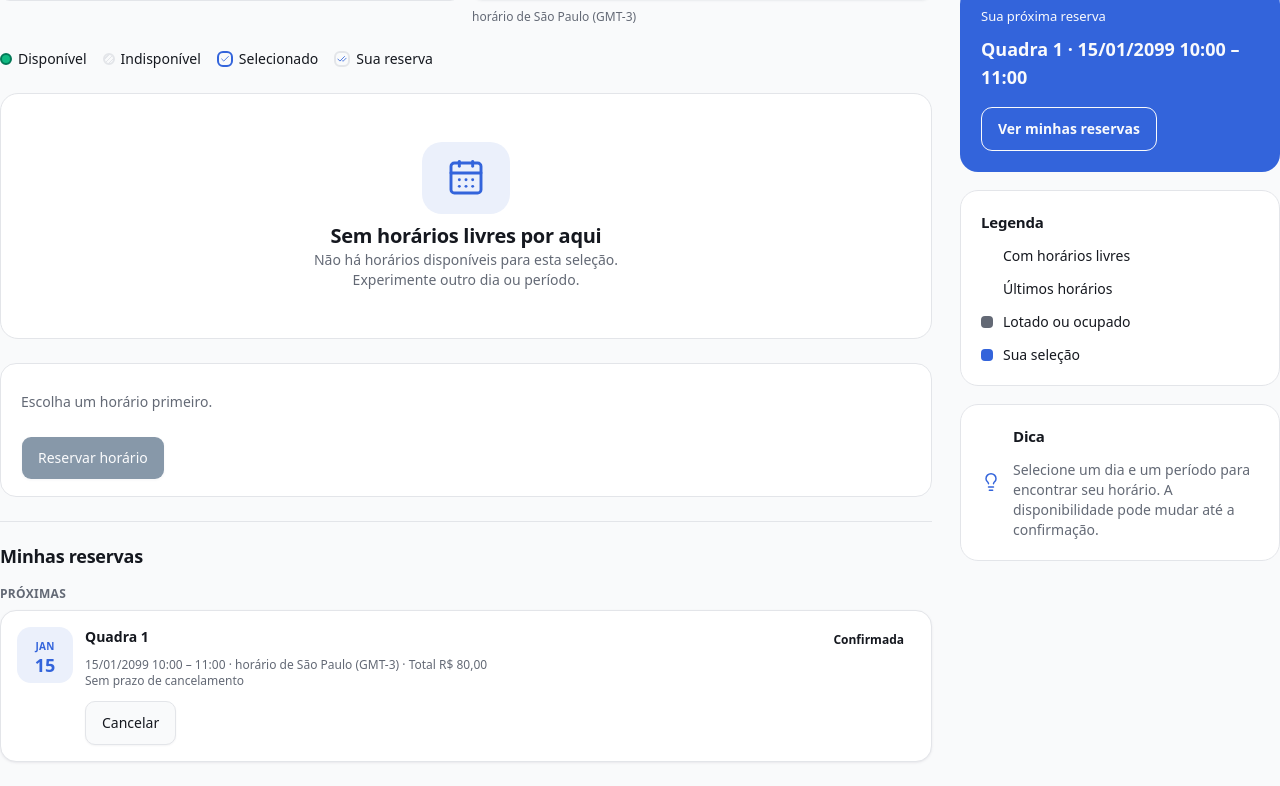
Test: TenantPortalAgendaPage B2C self-cancel › explains that an unpaid reservation has no payment to refund
(page scrolled)
Check: the heading "Minhas reservas" is shown, box [0,544,143,568]
Check: the list item "Quadra 1" shows "R$ 80,00", box [409,656,487,673]
What coordinates should you click on to do the following:
click the button "Cancelar"
I would click on:
 (131, 723)
Its box is [85,701,176,745].
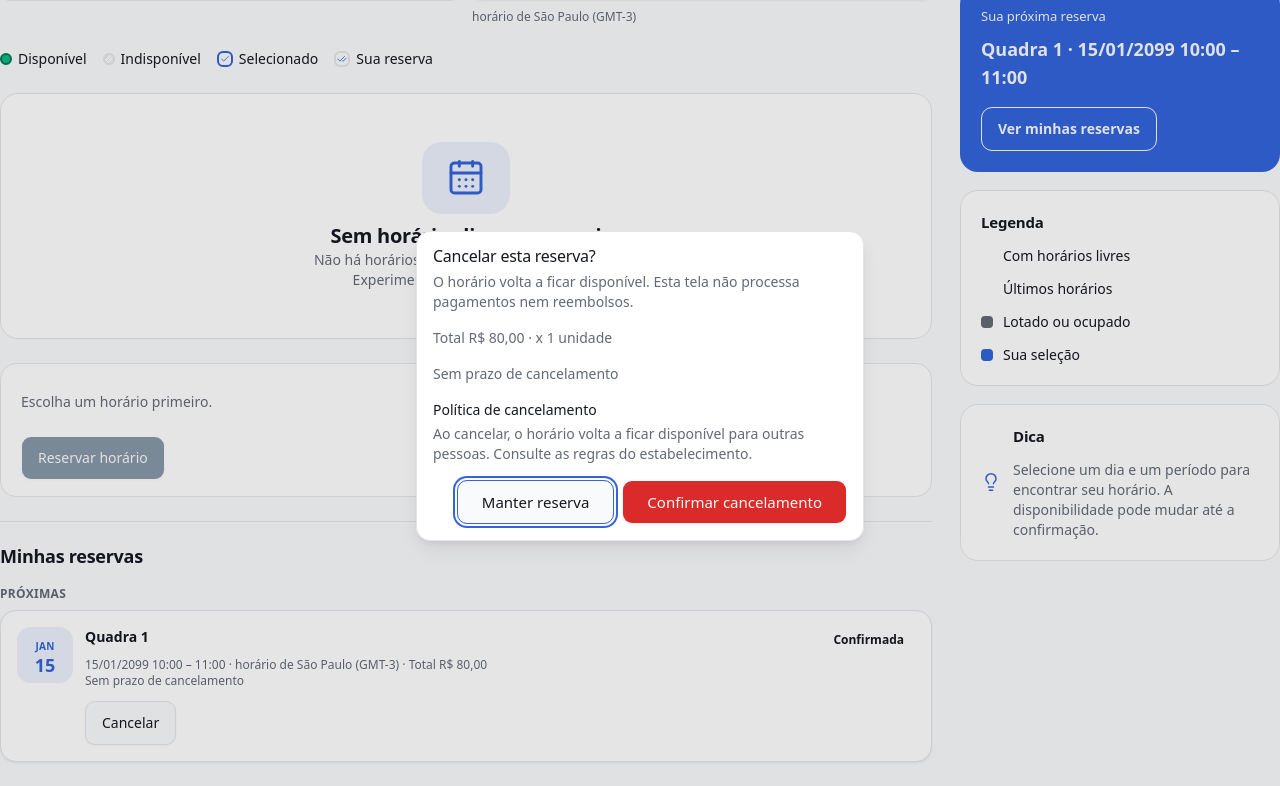
Check: the text "O horário volta a ficar disponível. Esta tela não processa pagamentos nem reembolsos." is shown, box [433,272,800,311]
What coordinates should you click on to do the following:
click the button "Manter reserva"
I would click on:
 (536, 502)
Its box is [457,480,614,524].
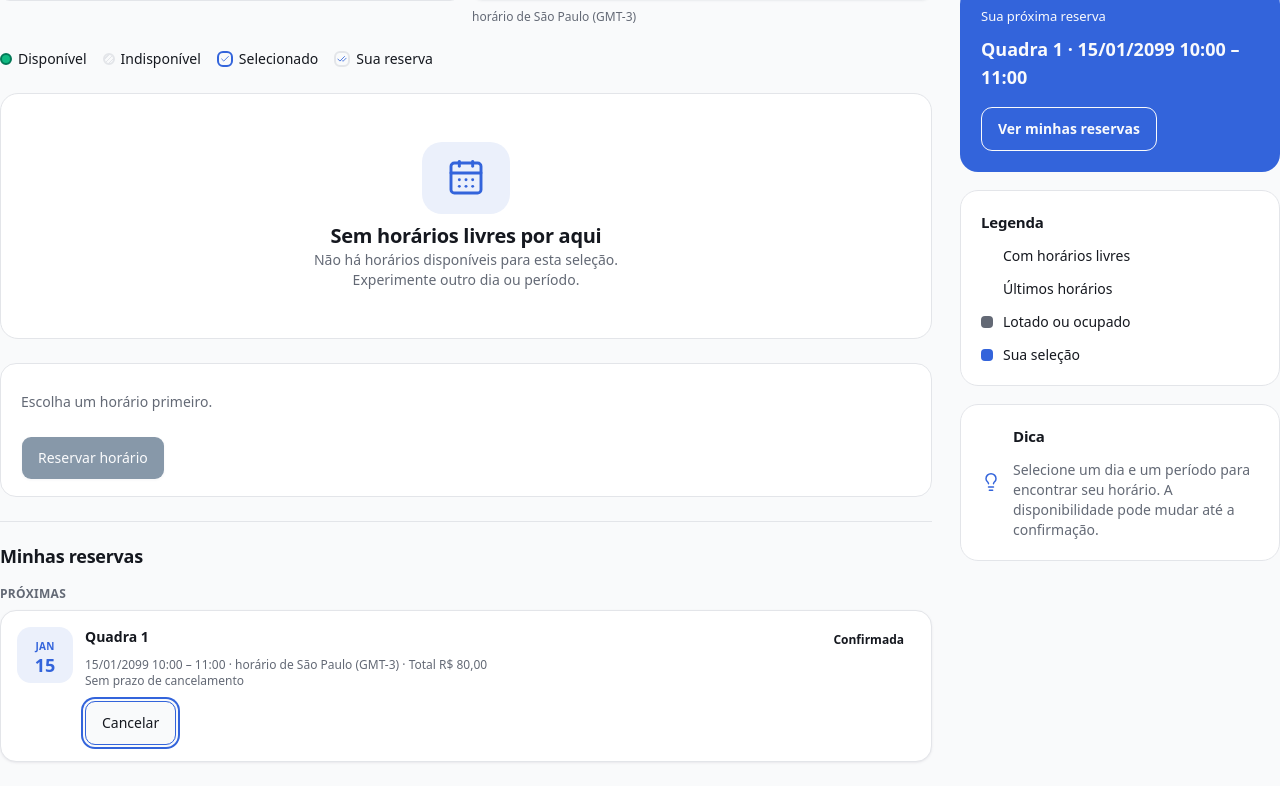
Check: the dialog is gone
